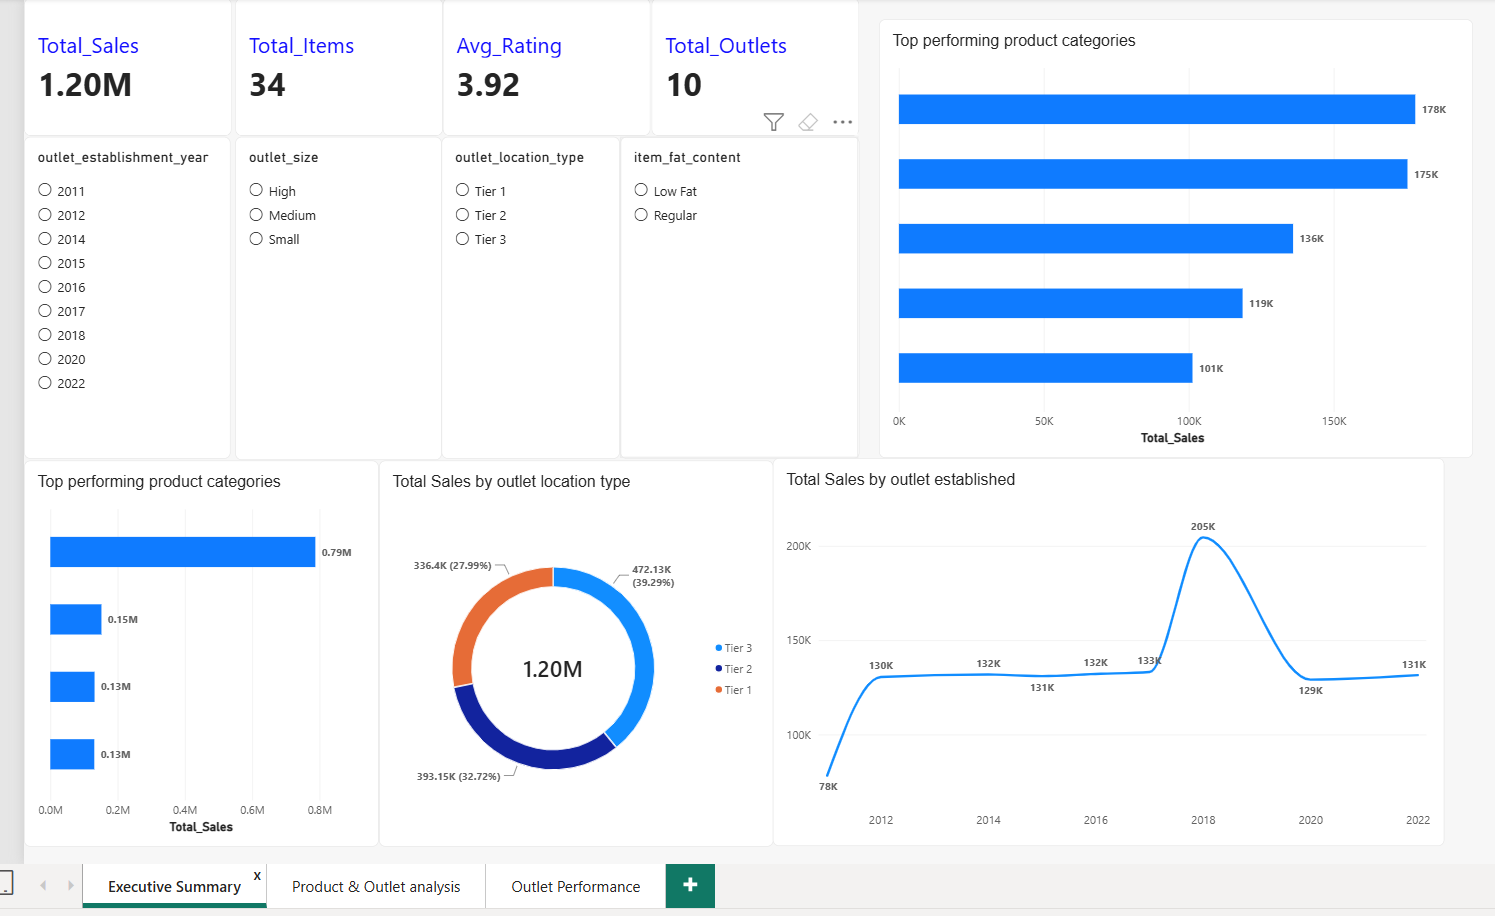

What the dashboard file says about the page in this screenshot:
{"tool":"powerbi","page":{"name":"Executive Summary","canvas":[1920,1080],"ordinal":0},"visuals":[{"type":"cardVisual","fields":{"Data":["BlinkIT_Grocery_Data_Raw.Total_Sales"]},"box":[0,0,259.3,172.9],"z":0},{"type":"cardVisual","fields":{"Data":["BlinkIT_Grocery_Data_Raw.Total_Items"]},"box":[263.5,0,259.3,172.9],"z":1},{"type":"cardVisual","fields":{"Data":["BlinkIT_Grocery_Data_Raw.Avg_Rating"]},"box":[522.8,0,259.3,172.9],"z":2},{"type":"cardVisual","fields":{"Data":["BlinkIT_Grocery_Data_Raw.Total_Outlets"]},"box":[782.2,0,259.3,172.9],"z":3},{"type":"listSlicer","fields":{"Values":["BlinkIT_Grocery_Data_Raw.outlet_establishment_year"]},"box":[0,172.9,257.3,401.4],"z":4},{"type":"listSlicer","fields":{"Values":["BlinkIT_Grocery_Data_Raw.outlet_size"]},"box":[263.5,172.9,257.3,403.4],"z":5},{"type":"listSlicer","fields":{"Values":["BlinkIT_Grocery_Data_Raw.outlet_location_type"]},"box":[520.8,172.9,222.3,401.4],"z":6},{"type":"listSlicer","fields":{"Values":["BlinkIT_Grocery_Data_Raw.item_fat_content"]},"box":[743.1,172.9,298.5,401.4],"z":7},{"type":"barChart","title":"Top performing product categories","fields":{"Category":["BlinkIT_Grocery_Data_Raw.item_type"],"Y":["BlinkIT_Grocery_Data_Raw.Total_Sales"]},"box":[1066.2,26.8,741,547.5],"z":10},{"type":"barChart","title":"Top performing product categories","fields":{"Category":["BlinkIT_Grocery_Data_Raw.outlet_type"],"Y":["BlinkIT_Grocery_Data_Raw.Total_Sales"]},"box":[0,576.3,442.5,481.6],"z":11},{"type":"donutChart","title":"Total Sales by outlet location type","fields":{"Category":["BlinkIT_Grocery_Data_Raw.outlet_location_type"],"Y":["BlinkIT_Grocery_Data_Raw.Total_Sales"]},"box":[442.5,576.3,491.9,481.6],"z":12},{"type":"lineChart","title":"Total Sales by outlet established","fields":{"Category":["BlinkIT_Grocery_Data_Raw.outlet_establishment_year"],"Y":["BlinkIT_Grocery_Data_Raw.Total_Sales"]},"box":[934.5,574.3,837.7,483.7],"z":13}]}

Visuals, with their boxes on the page's 1920x1080 design canvas (x1, y1, x2, y2). These are canvas units, not pixel positions in the 1495x916 screenshot, which may show the page scaled, cropped or inside an application window:
cardVisual - BlinkIT_Grocery_Data_Raw.Total_Sales: {"left": 0, "top": 0, "right": 259, "bottom": 173}
cardVisual - BlinkIT_Grocery_Data_Raw.Total_Items: {"left": 264, "top": 0, "right": 523, "bottom": 173}
cardVisual - BlinkIT_Grocery_Data_Raw.Avg_Rating: {"left": 523, "top": 0, "right": 782, "bottom": 173}
cardVisual - BlinkIT_Grocery_Data_Raw.Total_Outlets: {"left": 782, "top": 0, "right": 1042, "bottom": 173}
listSlicer - BlinkIT_Grocery_Data_Raw.outlet_establishment_year: {"left": 0, "top": 173, "right": 257, "bottom": 574}
listSlicer - BlinkIT_Grocery_Data_Raw.outlet_size: {"left": 264, "top": 173, "right": 521, "bottom": 576}
listSlicer - BlinkIT_Grocery_Data_Raw.outlet_location_type: {"left": 521, "top": 173, "right": 743, "bottom": 574}
listSlicer - BlinkIT_Grocery_Data_Raw.item_fat_content: {"left": 743, "top": 173, "right": 1042, "bottom": 574}
"Top performing product categories" barChart: {"left": 1066, "top": 27, "right": 1807, "bottom": 574}
"Top performing product categories" barChart: {"left": 0, "top": 576, "right": 442, "bottom": 1058}
"Total Sales by outlet location type" donutChart: {"left": 442, "top": 576, "right": 934, "bottom": 1058}
"Total Sales by outlet established" lineChart: {"left": 934, "top": 574, "right": 1772, "bottom": 1058}
